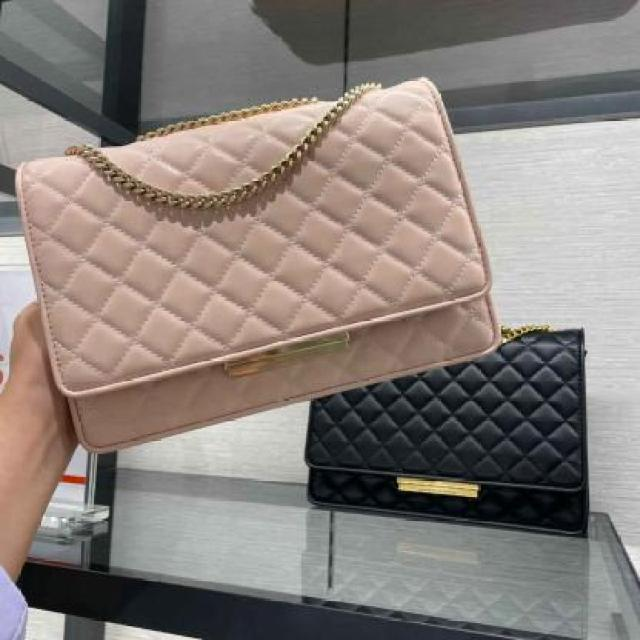Bag: (0, 48, 525, 460), (305, 295, 600, 539)
